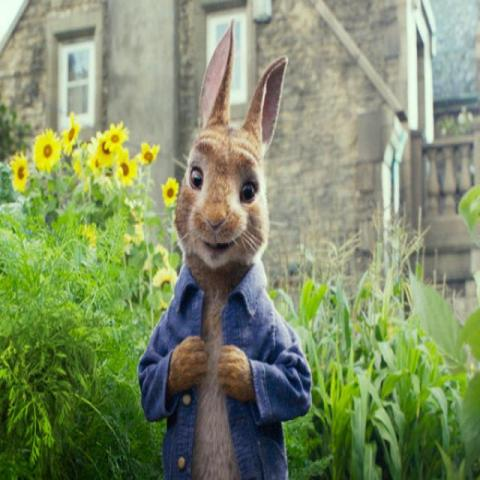small_animal: (136, 17, 314, 480)
